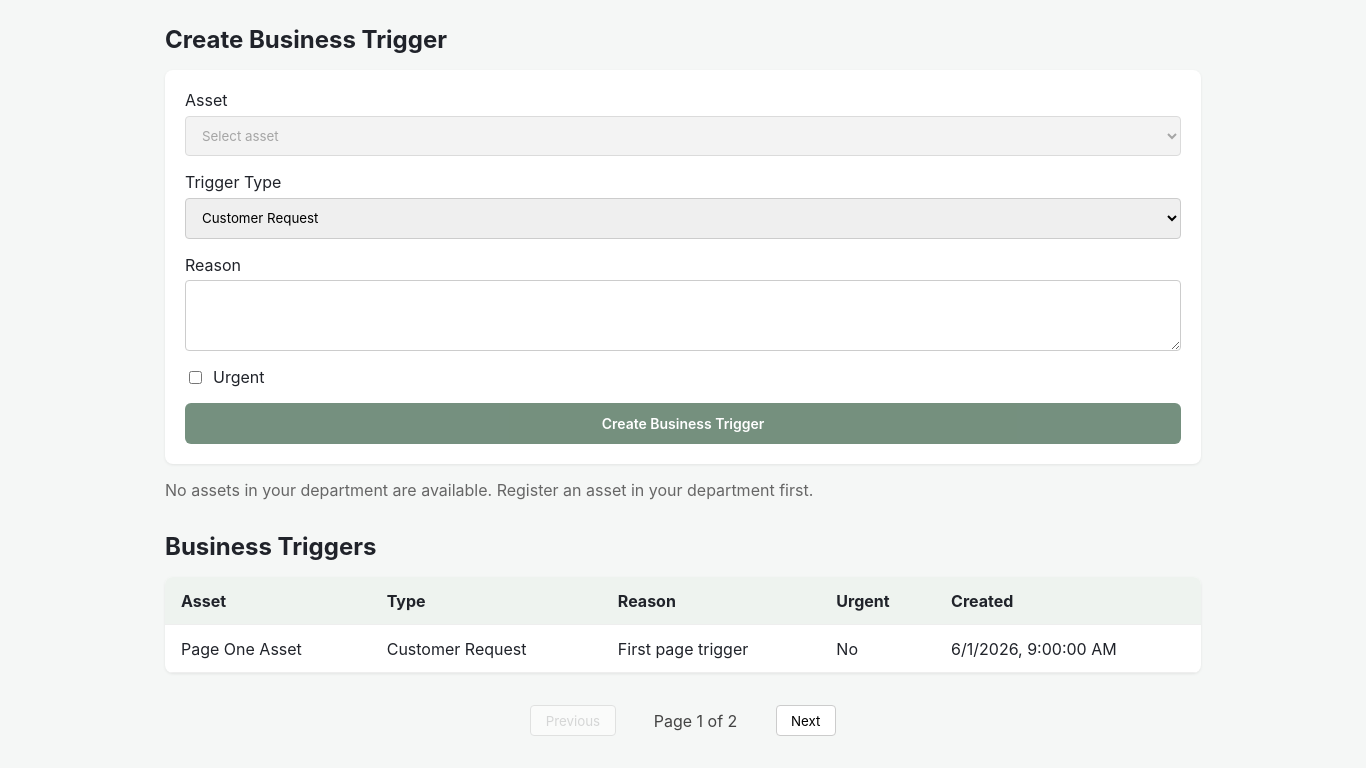
Test case: BusinessTriggersPage › loads the next page when Next is clicked
(page scrolled)
Expected: the text "First page trigger" is shown, [602,625,820,673]
Click the button with test id "pagination-next" at (806,721), box [776,705,836,736]
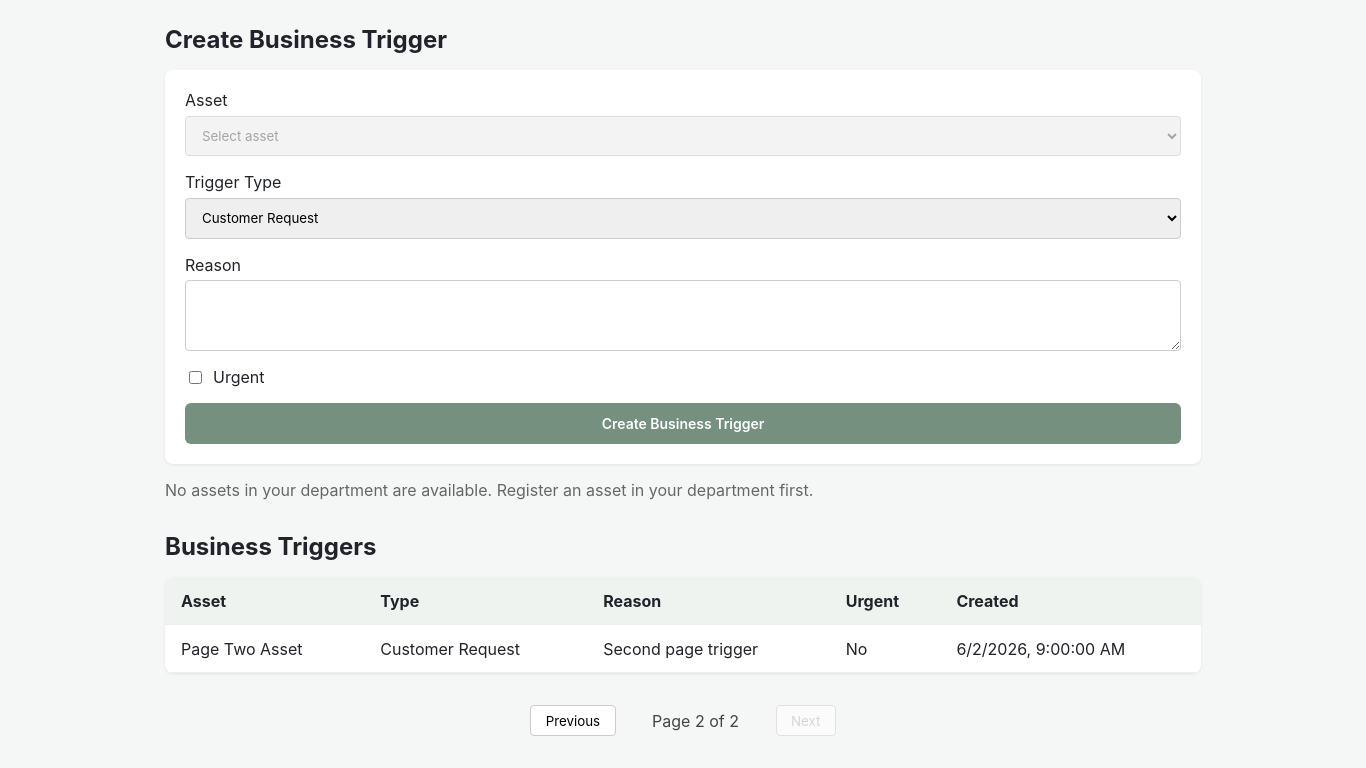
Now the text "Second page trigger" is shown, box [587,625,830,673]
